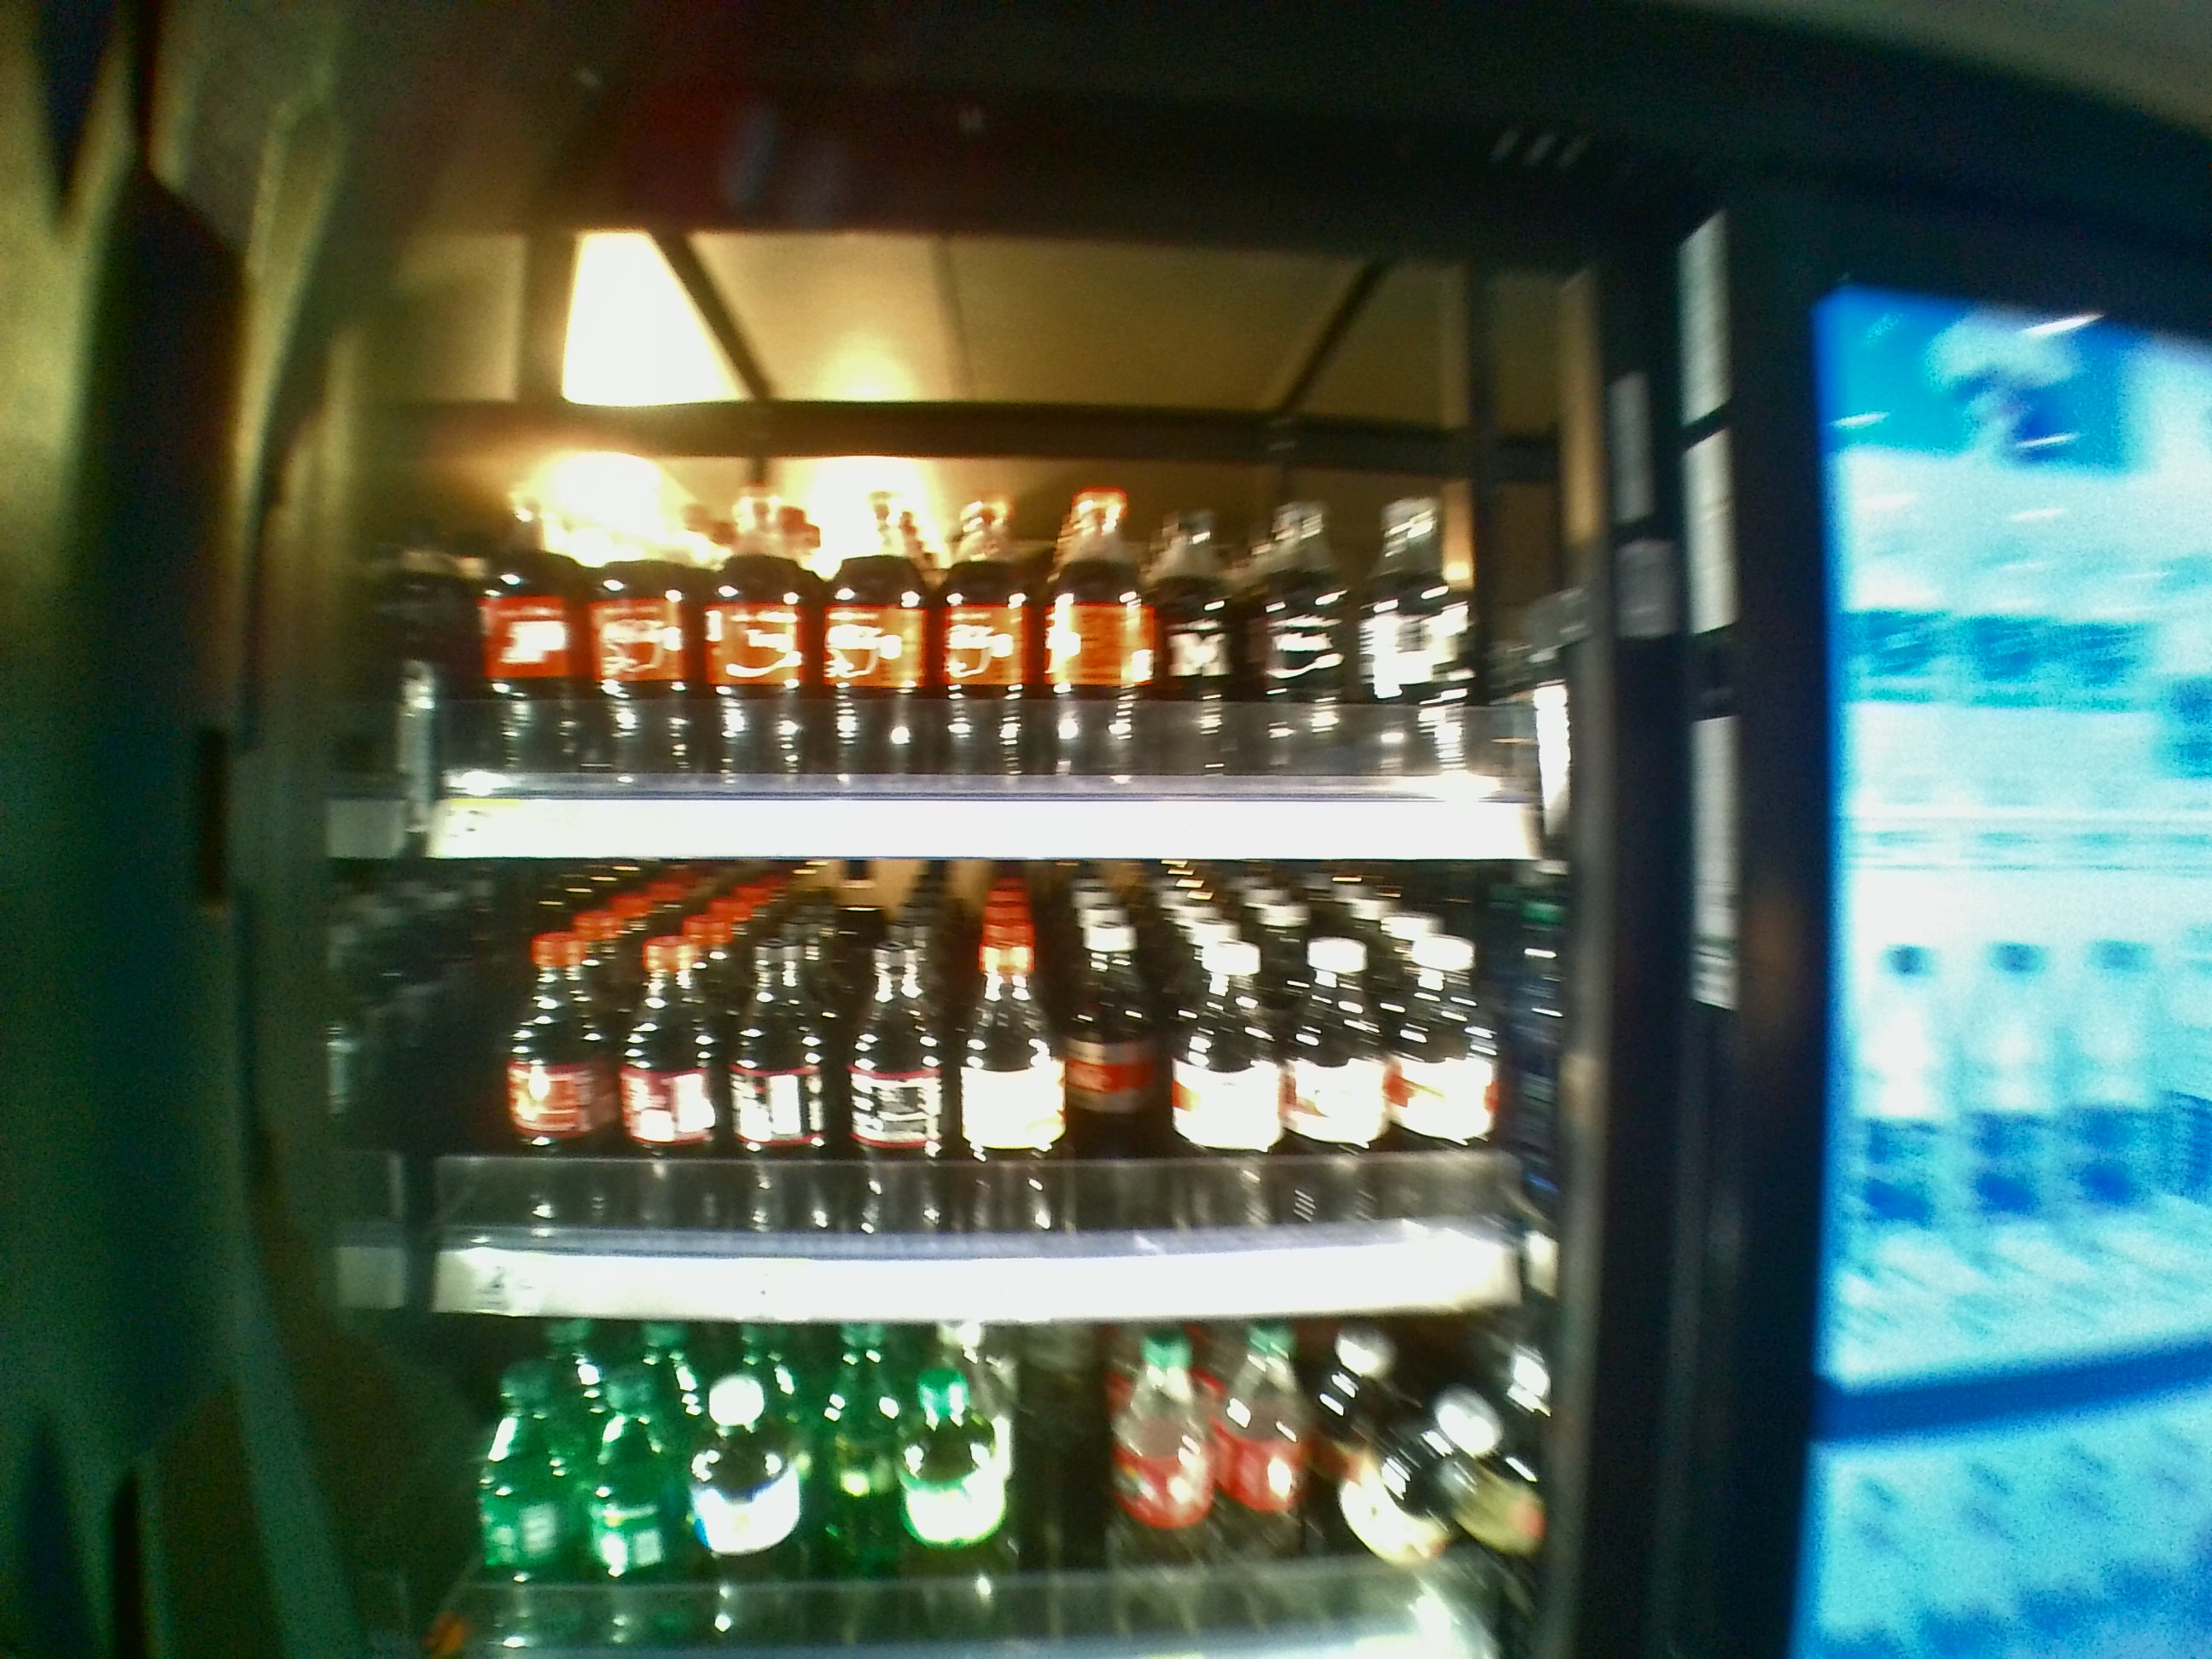shelf: (432, 291, 1543, 863), (432, 873, 1541, 1316)
